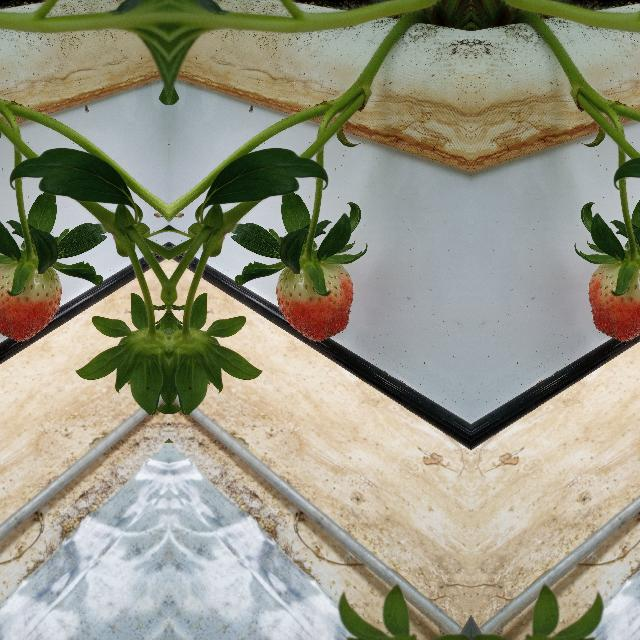Health_75: (274, 262, 352, 342), (0, 262, 62, 341), (588, 262, 640, 341)
